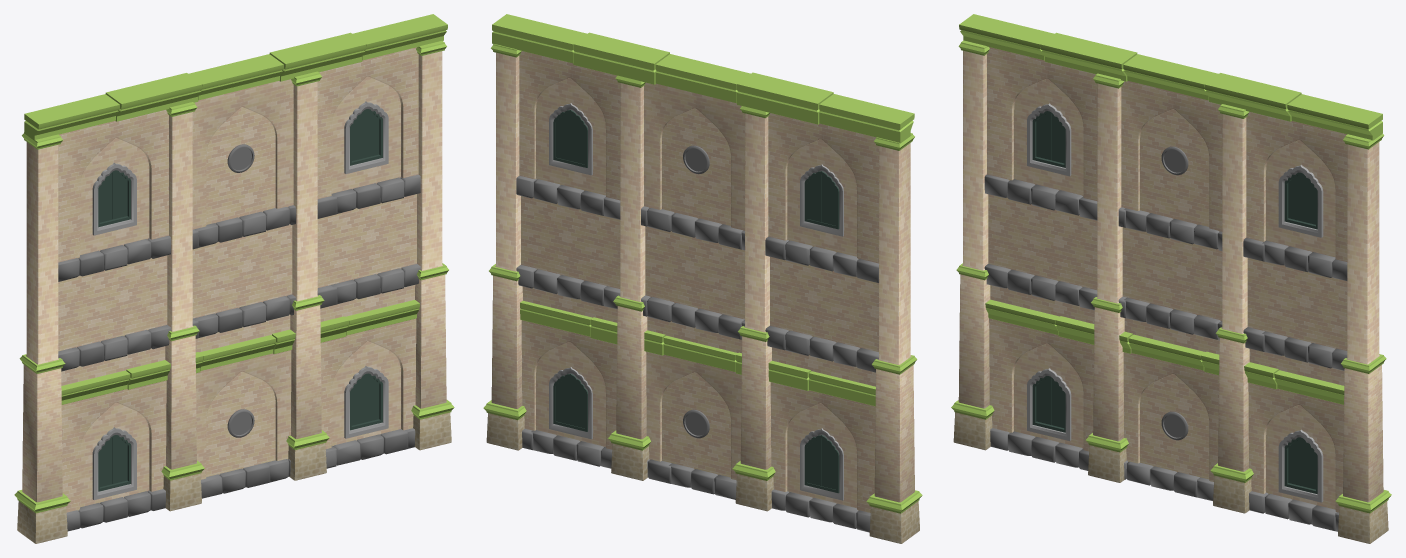
File: SM_wall_large_01.fbx
The picture shows the model from 3 angles, left to right: view 1: azimuth 30°, elevation 25°; view 2: azimuth 150°, elevation 25°; view 3: azimuth 330°, elevation 25°; orthographic projection.
Parts seen in each view (by area): view 1: Object33159; view 2: Object33159; view 3: Object33159.
Boxes of the visible parts, x1=… form: Object33159: x1=14, y1=14, x2=454, y2=543; Object33159: x1=483, y1=14, x2=922, y2=543; Object33159: x1=951, y1=14, x2=1391, y2=543.
Size of the model in its own units: 566 by 540 by 48.41.
